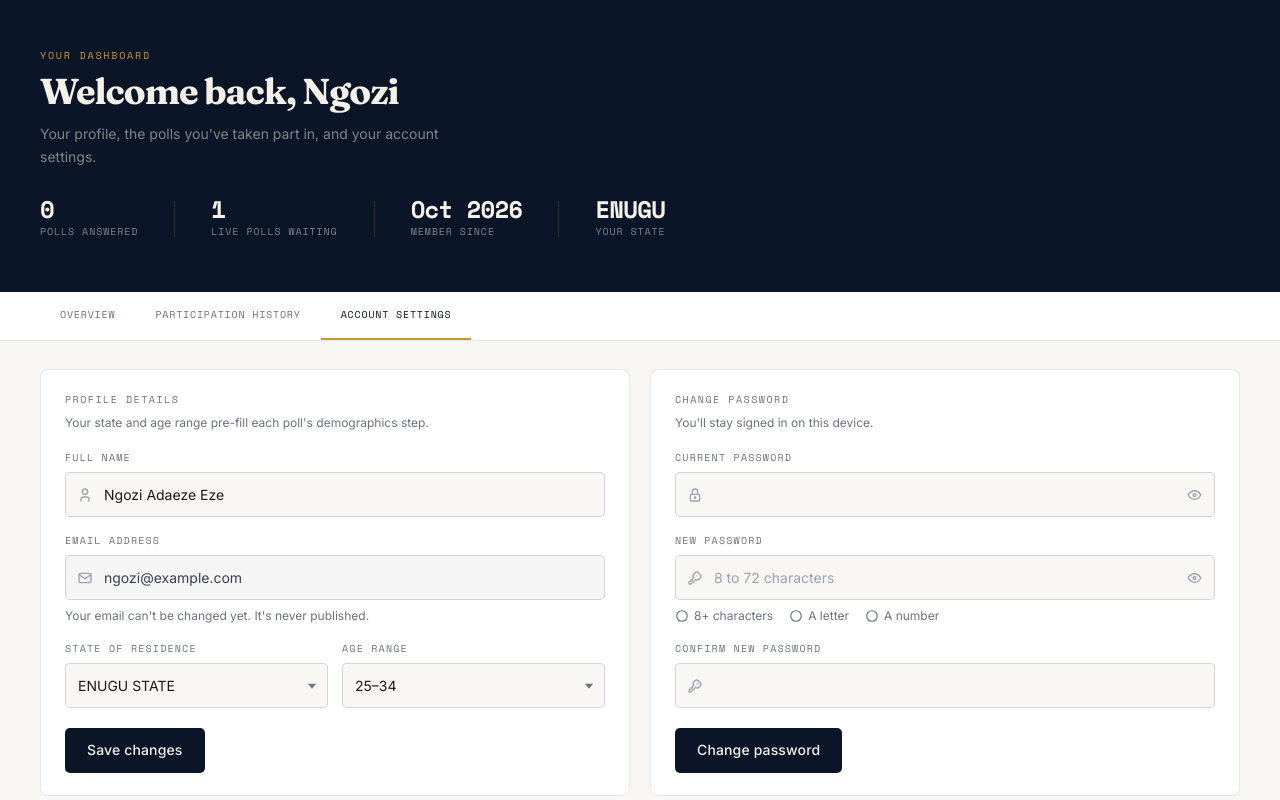
Test: change password › says when the current password is wrong, and empties it
expect the form named "Profile details" is shown: met, box [65,450,605,773]
Type "not-mine-1" into the password field labelled "Current password" at (945, 495), box [675,472,1215,517]
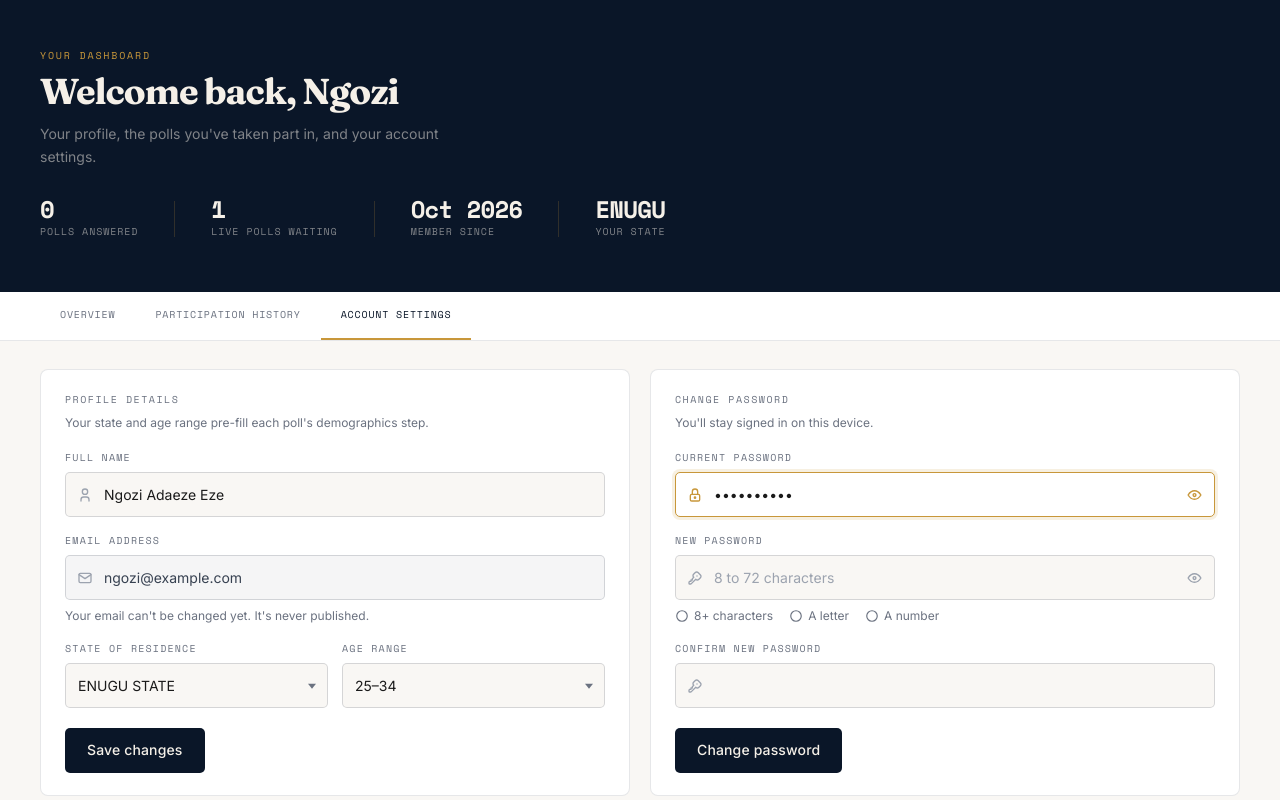
Type "newsecret1" into the password field labelled "New password" at (945, 578), box [675,555,1215,600]
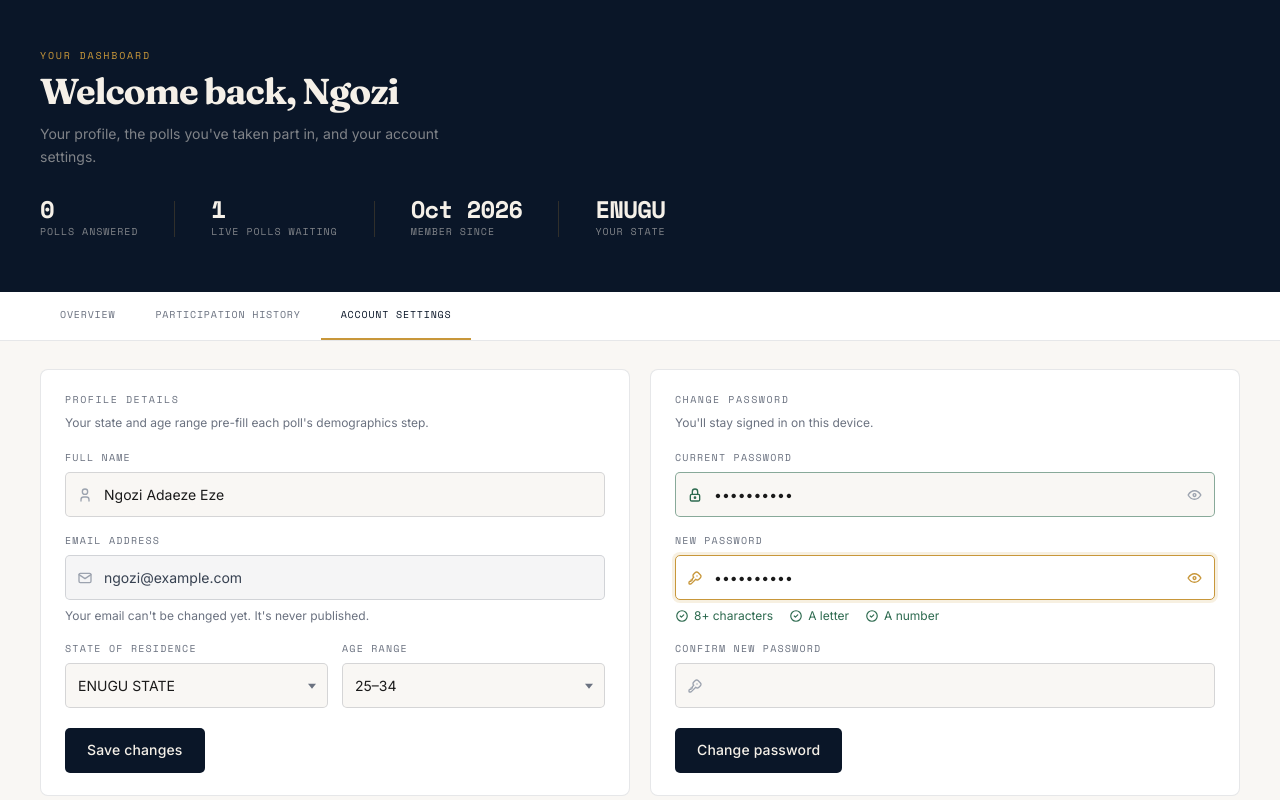
Type "newsecret1" into the password field labelled "Confirm new password" at (945, 686), box [675,663,1215,708]
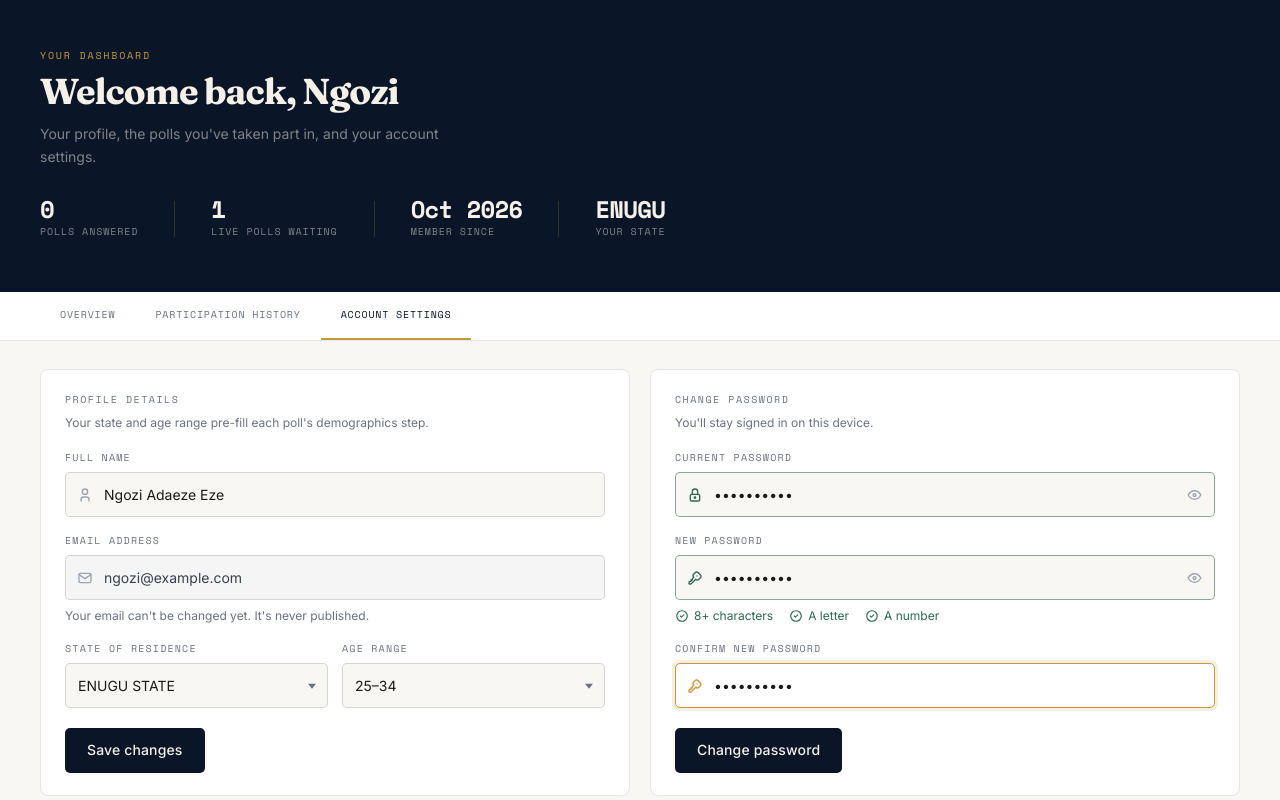
Click the button "Change password" at (759, 751), box [675,728,842,773]
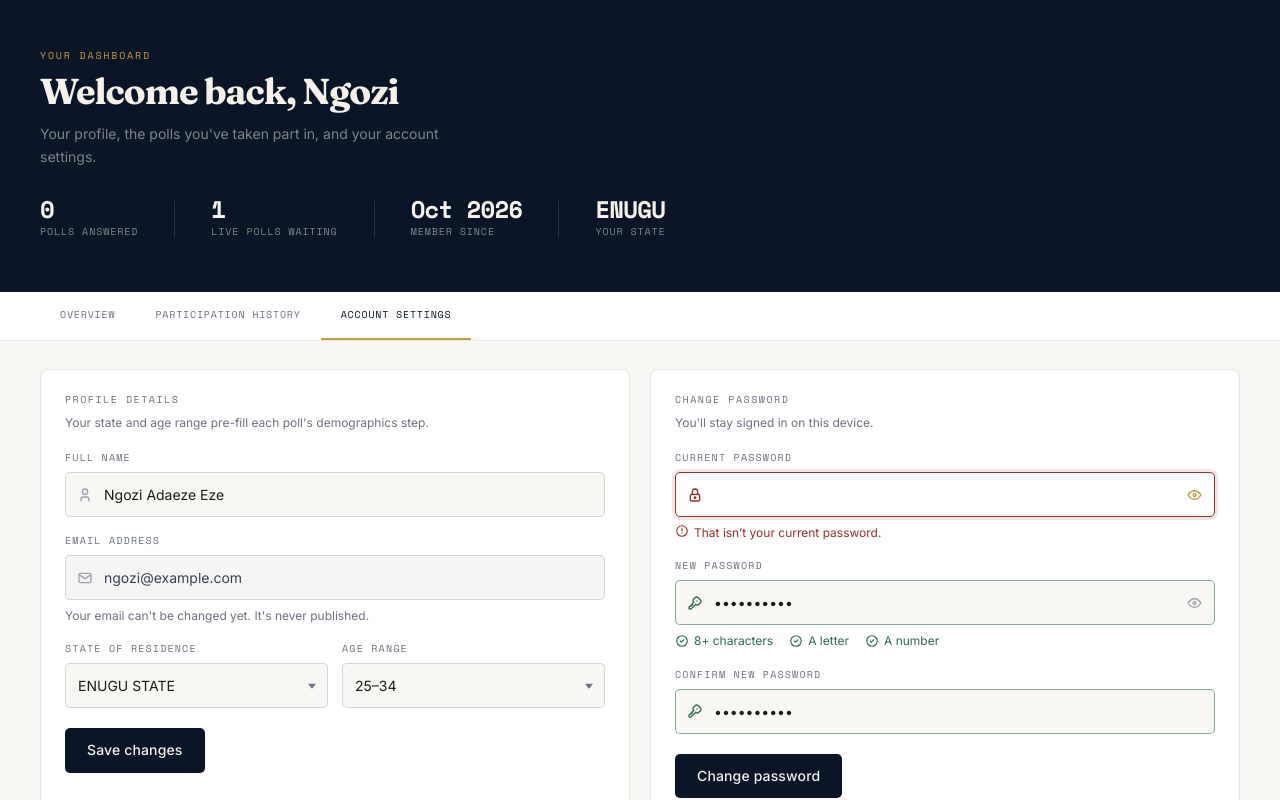
expect the text "That isn’t your current password." is shown: met, box [694,523,881,542]
expect the password field labelled "Current password" is empty: met, box [675,472,1215,517]
